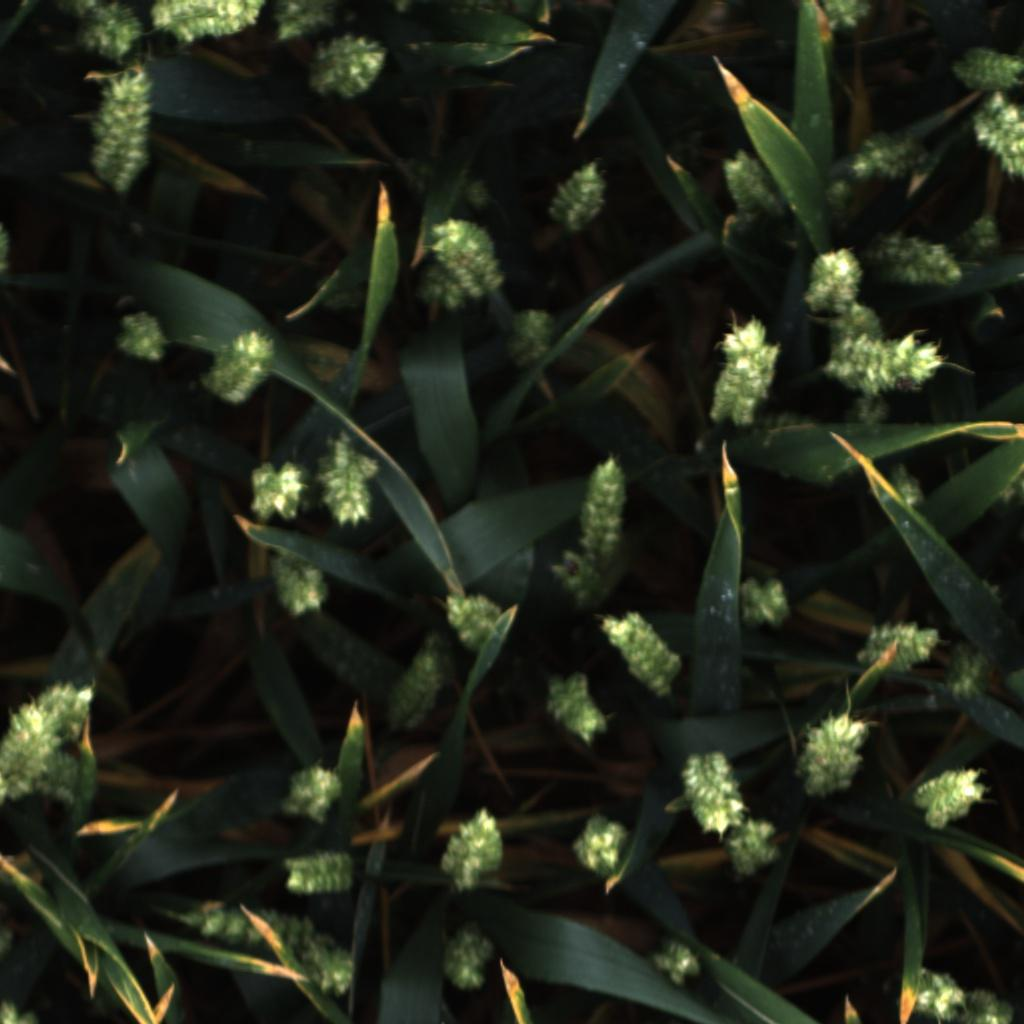0-0: (698, 309, 786, 432), (83, 63, 158, 196), (817, 326, 954, 395), (789, 708, 878, 808), (566, 450, 648, 557), (377, 634, 459, 737), (596, 609, 686, 701), (179, 900, 318, 957), (677, 743, 753, 839), (907, 754, 998, 833), (426, 212, 511, 295), (193, 328, 283, 406), (0, 699, 62, 811), (437, 802, 513, 891), (306, 25, 391, 104), (865, 232, 967, 297), (715, 139, 794, 221), (538, 664, 612, 749), (842, 128, 945, 186), (318, 438, 383, 527), (436, 915, 507, 996), (149, 0, 266, 49), (276, 760, 354, 832), (968, 97, 1024, 195), (549, 159, 617, 238), (561, 802, 631, 878), (852, 616, 943, 674), (492, 304, 565, 376), (266, 552, 337, 622), (435, 579, 507, 648), (242, 454, 311, 524), (715, 816, 786, 884), (729, 565, 796, 637), (802, 244, 869, 316), (298, 935, 365, 1002), (276, 846, 361, 898), (547, 548, 613, 613), (31, 681, 95, 747), (72, 2, 143, 59), (952, 41, 1024, 96), (117, 303, 173, 370), (912, 959, 967, 1024), (938, 645, 993, 708), (646, 933, 709, 987), (271, 2, 337, 48), (958, 979, 1023, 1024), (34, 751, 83, 805), (886, 457, 930, 513), (419, 263, 469, 311), (828, 302, 884, 340), (740, 409, 816, 434), (816, 0, 872, 33), (964, 212, 1003, 258), (852, 388, 894, 430), (993, 466, 1023, 506), (459, 176, 492, 208), (978, 576, 1008, 610), (0, 1001, 44, 1024), (52, 0, 97, 19)
